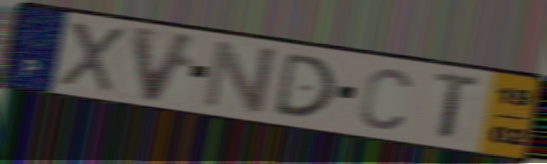C: (357, 65, 414, 132)
D: (271, 50, 339, 120)
N: (199, 37, 281, 116)
T: (431, 69, 485, 143)
V: (129, 22, 203, 106)
X: (56, 18, 127, 96)
